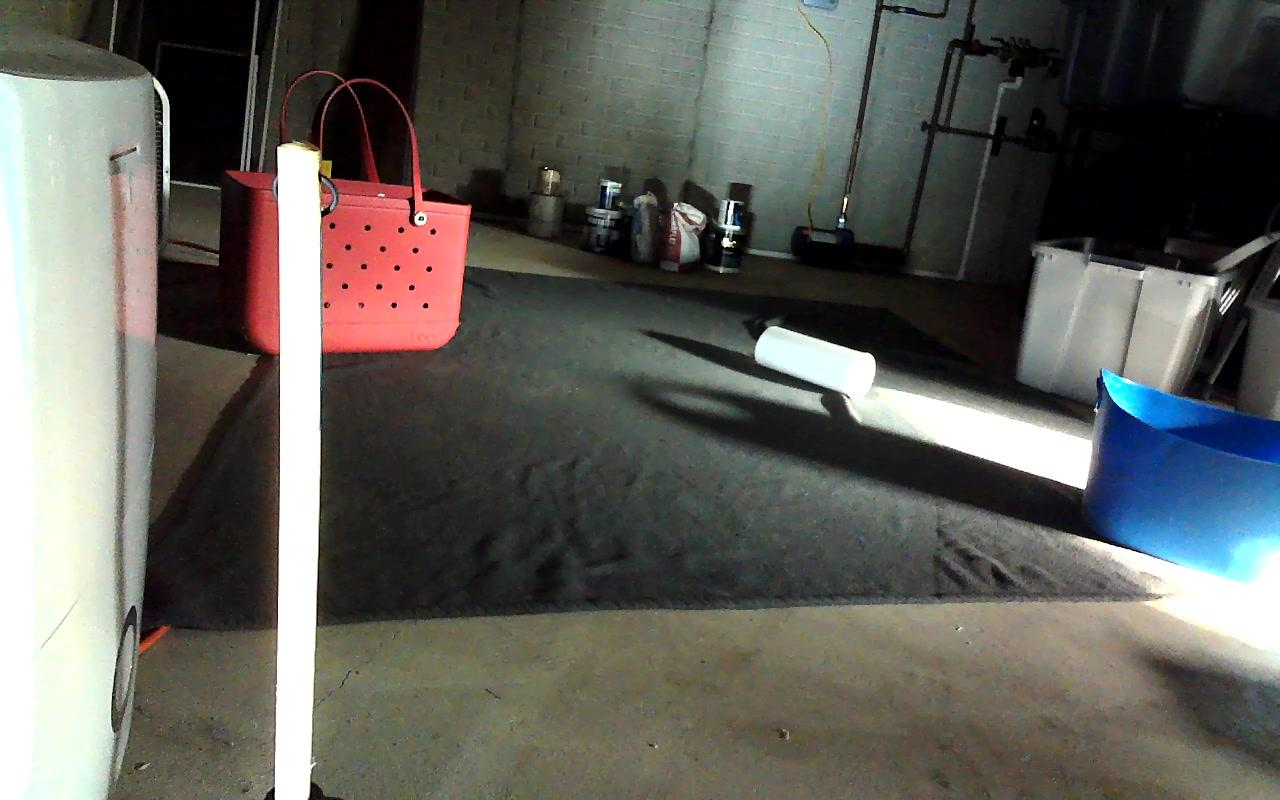coral: (755, 326, 876, 401)
